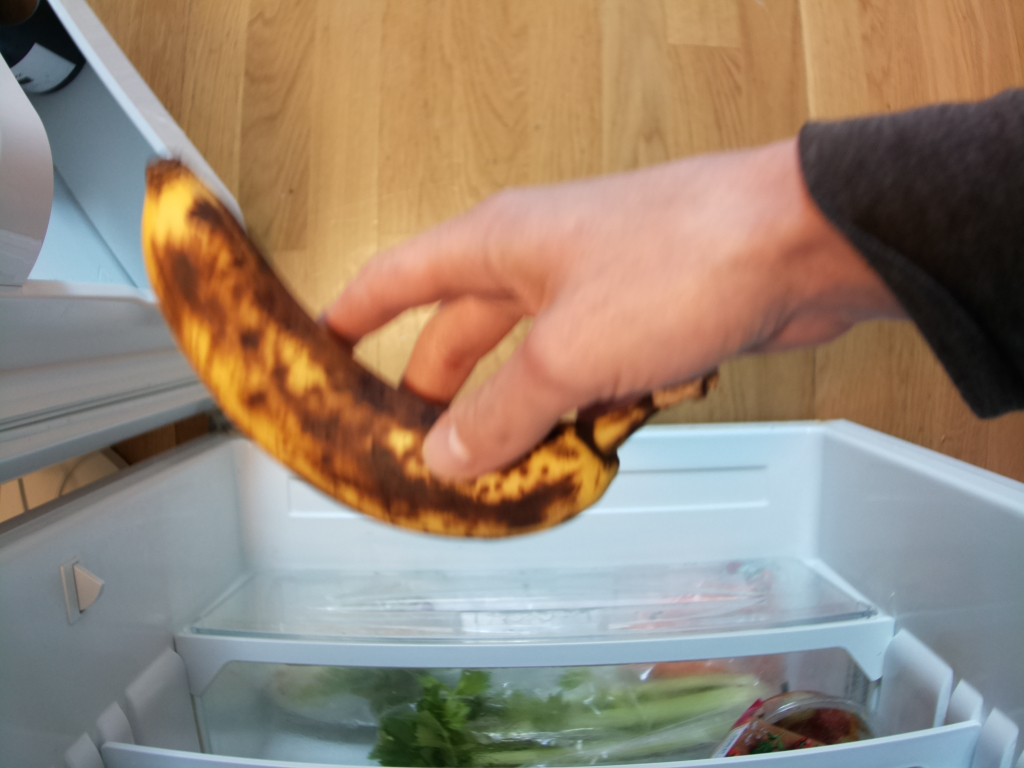banana-overripe: (142, 154, 717, 540)
